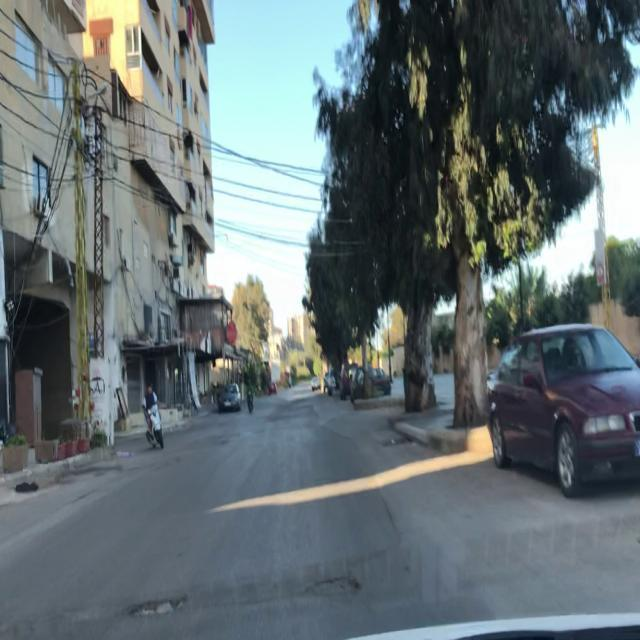pothole: (295, 565, 364, 606), (125, 591, 190, 625)
